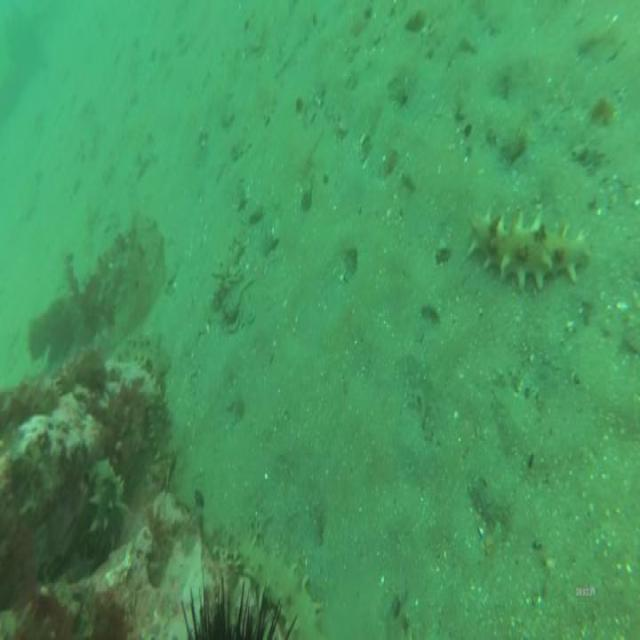echinus: (177, 556, 304, 640)
holothurian: (464, 204, 589, 297), (83, 455, 129, 563), (113, 334, 171, 386), (143, 389, 173, 466)
